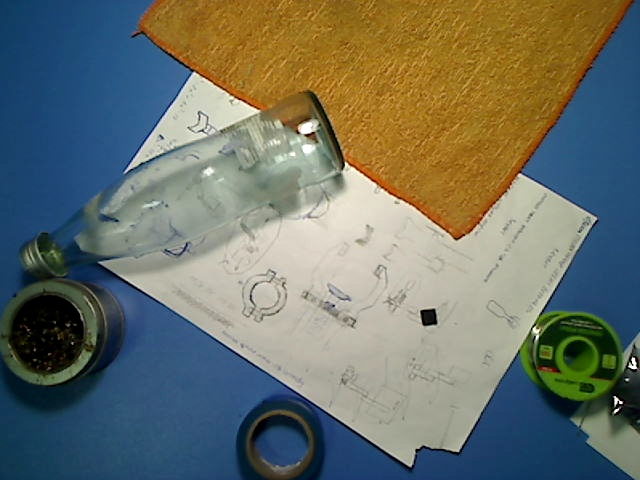bottle: (20, 88, 345, 283)
